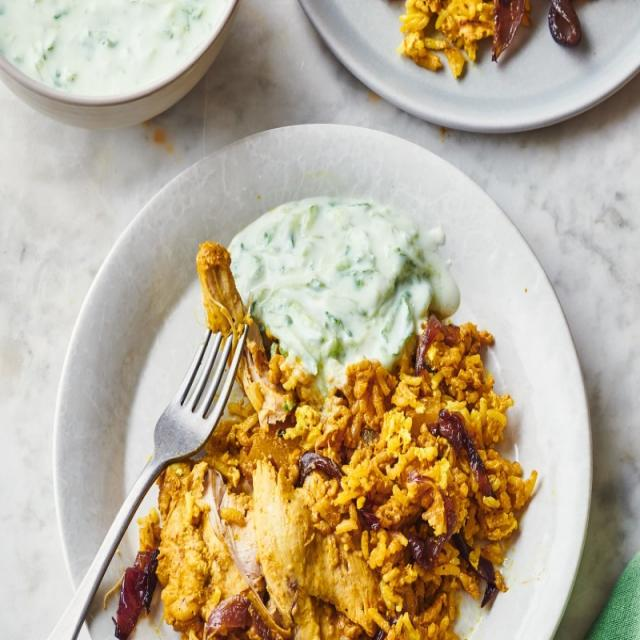Biryani: (106, 310, 538, 639)
